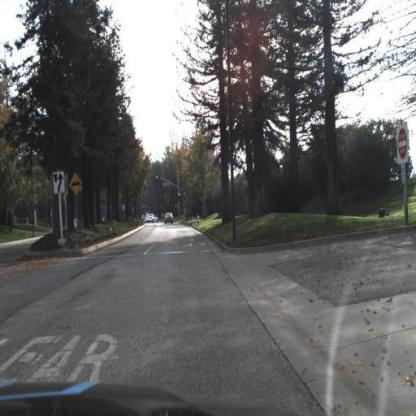car: (144, 209, 160, 224), (144, 212, 159, 225), (162, 210, 174, 226), (163, 211, 174, 226)
